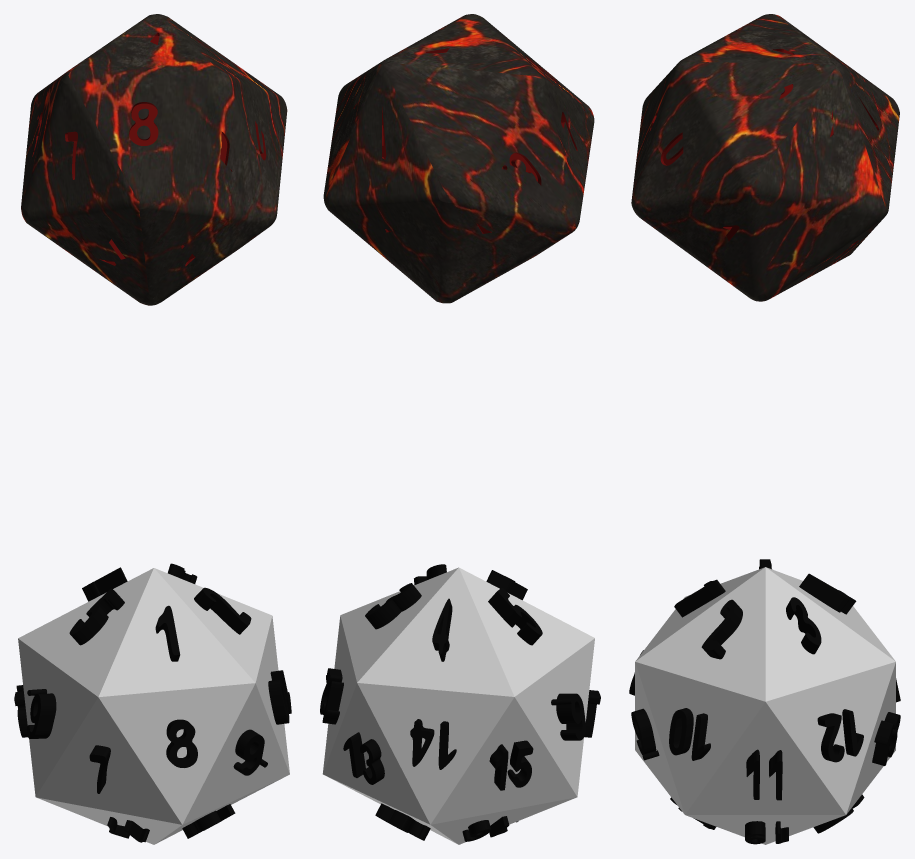
The model's file is dado20Caras2.obj.
3 views of the same model, side by side, from view 1: azimuth 30°, elevation 25°; view 2: azimuth 150°, elevation 25°; view 3: azimuth 270°, elevation 25° (orthographic).
Visible parts, largest first — view 1: Icosphere.001_Icosphere.002, Icosphere, 5_Curve.169, 6_Cylinder, 8_Curve.172, 2_Curve.166, 9_Curve.173, 10_Curve.174, 4_Curve.168, 1_Curve.165, 18_Curve.190, 17_Curve.188 (+1 smaller); view 2: Icosphere.001_Icosphere.002, Icosphere, 15_Curve.002, 13_Curve.180, 5_Curve.169, 6_Cylinder, 14_Curve.182, 3_Curve.167, 12_Curve.178, 20_Curve.194, 4_Curve.168, 16_Curve.187 (+1 smaller); view 3: Icosphere.001_Icosphere.002, Icosphere, 10_Curve.174, 12_Curve.178, 2_Curve.166, 4_Curve.168, 13_Curve.180, 3_Curve.167, 11_Curve.176, 9_Curve.173, 1_Curve.165, 19_Curve.192.
Part boxes in pixels (left/top/right/bottom): Icosphere.001_Icosphere.002: left=21, top=14, right=287, bottom=305; Icosphere: left=18, top=568, right=289, bottom=844; 5_Curve.169: left=69, top=588, right=124, bottom=645; 6_Cylinder: left=27, top=689, right=56, bottom=738; 8_Curve.172: left=166, top=719, right=197, bottom=767; 2_Curve.166: left=194, top=587, right=251, bottom=634; 9_Curve.173: left=233, top=729, right=267, bottom=775; 10_Curve.174: left=268, top=670, right=291, bottom=724; 4_Curve.168: left=82, top=567, right=127, bottom=601; 1_Curve.165: left=155, top=605, right=180, bottom=661; 18_Curve.190: left=182, top=804, right=235, bottom=838; 17_Curve.188: left=107, top=817, right=149, bottom=842; Icosphere.001_Icosphere.002: left=323, top=14, right=594, bottom=303; Icosphere: left=322, top=567, right=594, bottom=844; 15_Curve.002: left=489, top=740, right=533, bottom=790; 13_Curve.180: left=343, top=732, right=384, bottom=784; 5_Curve.169: left=488, top=588, right=542, bottom=645; 6_Cylinder: left=551, top=693, right=585, bottom=740; 14_Curve.182: left=410, top=719, right=456, bottom=769; 3_Curve.167: left=365, top=583, right=421, bottom=629; 12_Curve.178: left=320, top=668, right=343, bottom=724; 20_Curve.194: left=375, top=803, right=430, bottom=840; 4_Curve.168: left=432, top=598, right=452, bottom=661; 16_Curve.187: left=462, top=816, right=509, bottom=841; Icosphere.001_Icosphere.002: left=631, top=14, right=899, bottom=301; Icosphere: left=635, top=567, right=895, bottom=844; 10_Curve.174: left=669, top=708, right=710, bottom=760; 12_Curve.178: left=817, top=709, right=863, bottom=762; 2_Curve.166: left=701, top=599, right=742, bottom=659; 4_Curve.168: left=799, top=573, right=856, bottom=614; 13_Curve.180: left=872, top=712, right=900, bottom=765; 3_Curve.167: left=786, top=597, right=821, bottom=654; 11_Curve.176: left=746, top=749, right=782, bottom=800; 9_Curve.173: left=631, top=708, right=659, bottom=760; 1_Curve.165: left=674, top=579, right=725, bottom=617; 19_Curve.192: left=745, top=821, right=788, bottom=844.
Bounding box in the file's own units: 151 × 462 × 142.
